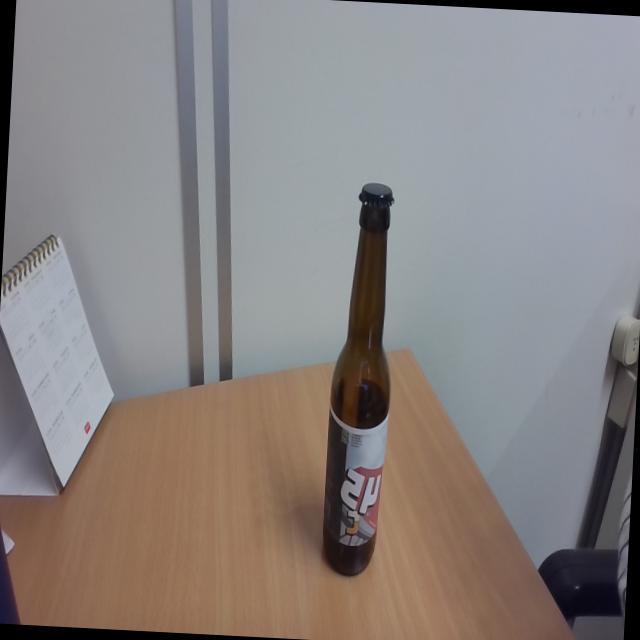Bottle: (318, 180, 402, 578)
Cap: (354, 182, 398, 212)
Label: (321, 418, 388, 546)
